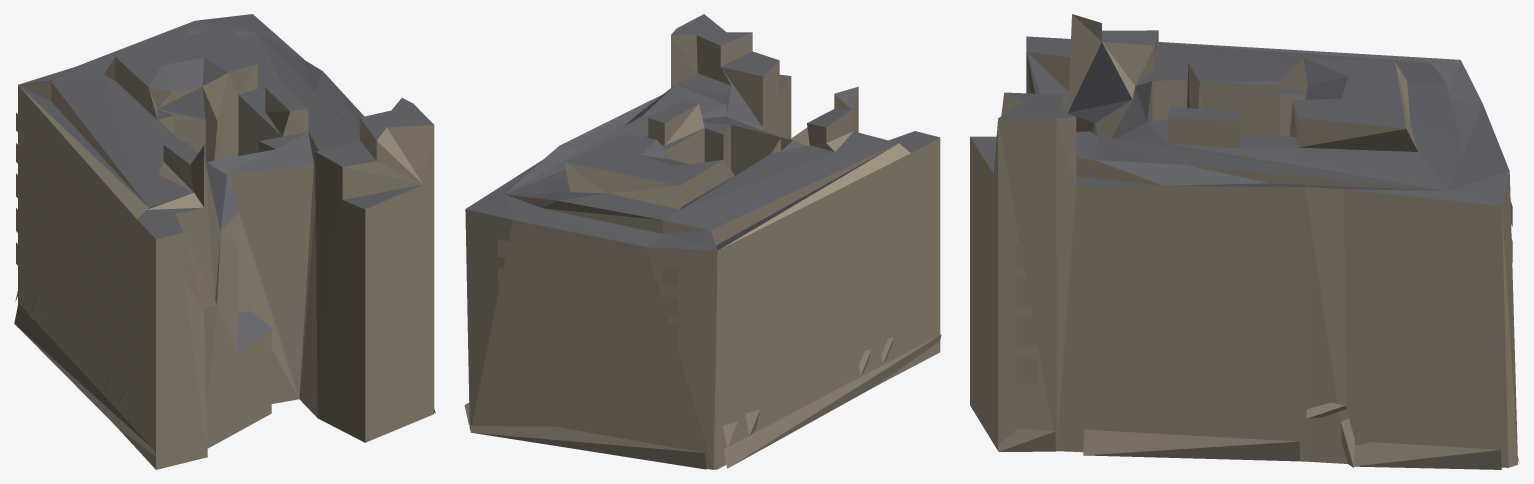
The model's file is bungehuis.lod2.glb.
The picture shows the model from 3 angles, left to right: view 1: azimuth 30°, elevation 25°; view 2: azimuth 150°, elevation 25°; view 3: azimuth 270°, elevation 25°; orthographic projection. The views are drawn at different scales.
Parts seen in each view (by area): view 1: lod2; view 2: lod2; view 3: lod2.
Boxes of the visible parts, x1=… form: lod2: x1=14, y1=14, x2=435, y2=469; lod2: x1=464, y1=14, x2=941, y2=469; lod2: x1=970, y1=14, x2=1519, y2=469.
Size of the model in its own units: 36.99 by 33.64 by 50.01.
